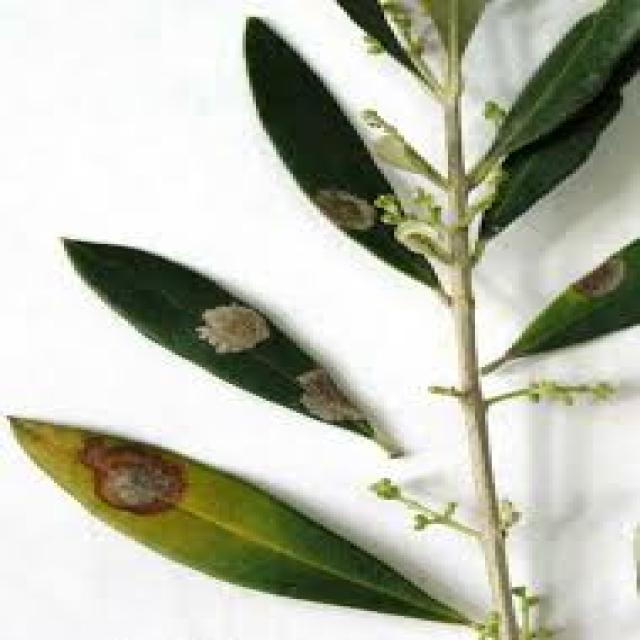Peacock Eye: (10, 415, 458, 621), (64, 239, 374, 435), (246, 19, 445, 292), (512, 239, 637, 355)
